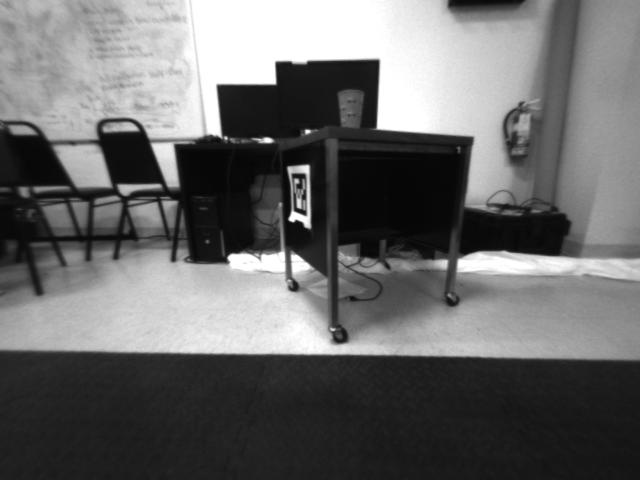coffee_cup: (332, 87, 367, 129)
